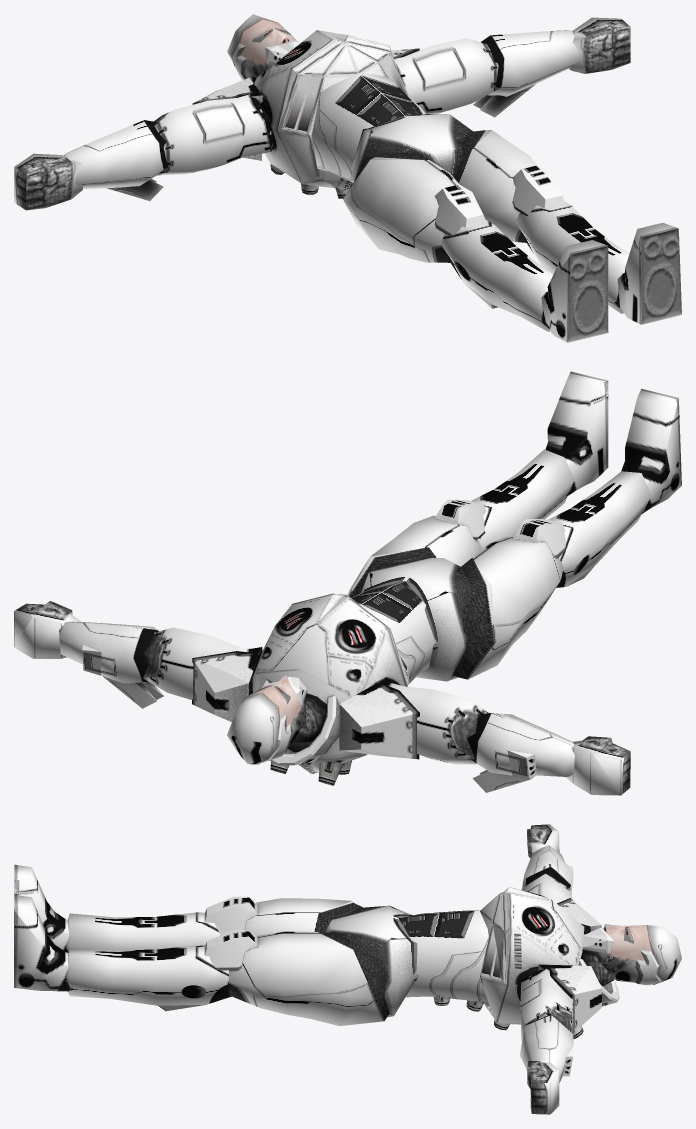
Rendered from typhoon.DAE.
The picture shows the model from 3 angles, top to bottom: view 1: azimuth 30°, elevation 25°; view 2: azimuth 150°, elevation 25°; view 3: azimuth 270°, elevation 25°; orthographic projection. The views are drawn at different scales.
Visible parts, largest first — view 1: chest_PIVOT, right_thigh_PIVOT, left_biceps02_PIVOT, right_thigh01_PIVOT, right_calf_PIVOT, mid_PIVOT, left_biceps_PIVOT, right_foot_PIVOT, left_wrist02_PIVOT, right_foot01_PIVOT, left_wrist_PIVOT, pelvis_PIVOT (+5 smaller); view 2: chest_PIVOT, right_thigh_PIVOT, left_wrist02_PIVOT, pelvis_PIVOT, right_calf_PIVOT, right_foot01_PIVOT, left_wrist_PIVOT, right_foot_PIVOT, right_thigh01_PIVOT, right_calf01_PIVOT, left_shoulder01_PIVOT, head_PIVOT (+7 smaller); view 3: right_thigh01_PIVOT, chest_PIVOT, right_calf01_PIVOT, mid_PIVOT, right_calf_PIVOT, head_PIVOT, pelvis_PIVOT, right_thigh_PIVOT, right_foot01_PIVOT, left_wrist_PIVOT, left_biceps_PIVOT, left_shoulder_PIVOT (+7 smaller).
Part boxes in pixels (bbox=[...]): chest_PIVOT: bbox=[254, 30, 408, 198]; right_thigh_PIVOT: bbox=[342, 151, 486, 262]; left_biceps02_PIVOT: bbox=[154, 93, 274, 175]; right_thigh01_PIVOT: bbox=[454, 130, 565, 242]; right_calf_PIVOT: bbox=[441, 219, 553, 331]; mid_PIVOT: bbox=[311, 73, 425, 183]; left_biceps_PIVOT: bbox=[394, 38, 499, 114]; right_foot_PIVOT: bbox=[539, 240, 608, 342]; left_wrist02_PIVOT: bbox=[64, 120, 167, 200]; right_foot01_PIVOT: bbox=[614, 222, 681, 324]; left_wrist_PIVOT: bbox=[473, 30, 580, 117]; pelvis_PIVOT: bbox=[352, 114, 472, 180]; chest_PIVOT: bbox=[252, 593, 408, 785]; right_thigh_PIVOT: bbox=[452, 518, 565, 679]; left_wrist02_PIVOT: bbox=[467, 713, 574, 792]; pelvis_PIVOT: bbox=[361, 557, 473, 681]; right_calf_PIVOT: bbox=[548, 471, 651, 587]; right_foot01_PIVOT: bbox=[545, 371, 608, 496]; left_wrist_PIVOT: bbox=[59, 621, 163, 708]; right_foot_PIVOT: bbox=[621, 388, 681, 514]; right_thigh01_PIVOT: bbox=[347, 499, 486, 597]; right_calf01_PIVOT: bbox=[471, 449, 574, 548]; left_shoulder01_PIVOT: bbox=[339, 677, 419, 759]; head_PIVOT: bbox=[227, 674, 307, 764]; right_thigh01_PIVOT: bbox=[204, 930, 389, 1025]; chest_PIVOT: bbox=[480, 887, 619, 1038]; right_calf01_PIVOT: bbox=[66, 945, 231, 1011]; mid_PIVOT: bbox=[398, 910, 489, 1011]; right_calf_PIVOT: bbox=[66, 912, 220, 952]; head_PIVOT: bbox=[582, 924, 681, 985]; pelvis_PIVOT: bbox=[324, 905, 418, 1017]; right_thigh_PIVOT: bbox=[204, 896, 362, 936]; right_foot01_PIVOT: bbox=[14, 894, 74, 991]; left_wrist_PIVOT: bbox=[520, 1014, 573, 1082]; left_biceps_PIVOT: bbox=[520, 967, 572, 1041]; left_shoulder_PIVOT: bbox=[538, 964, 601, 1033].
Bounding box in the file's own units: 7.58 × 8.27 × 1.97.
